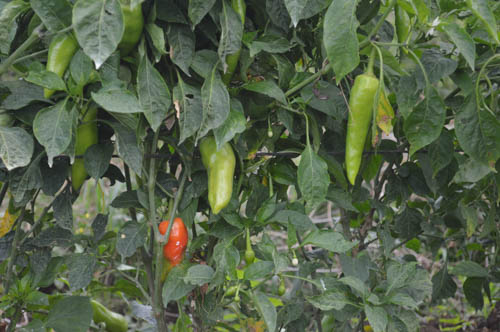ChiliPepper: (345, 74, 381, 184), (197, 137, 235, 217), (71, 107, 106, 191), (39, 33, 73, 99)
